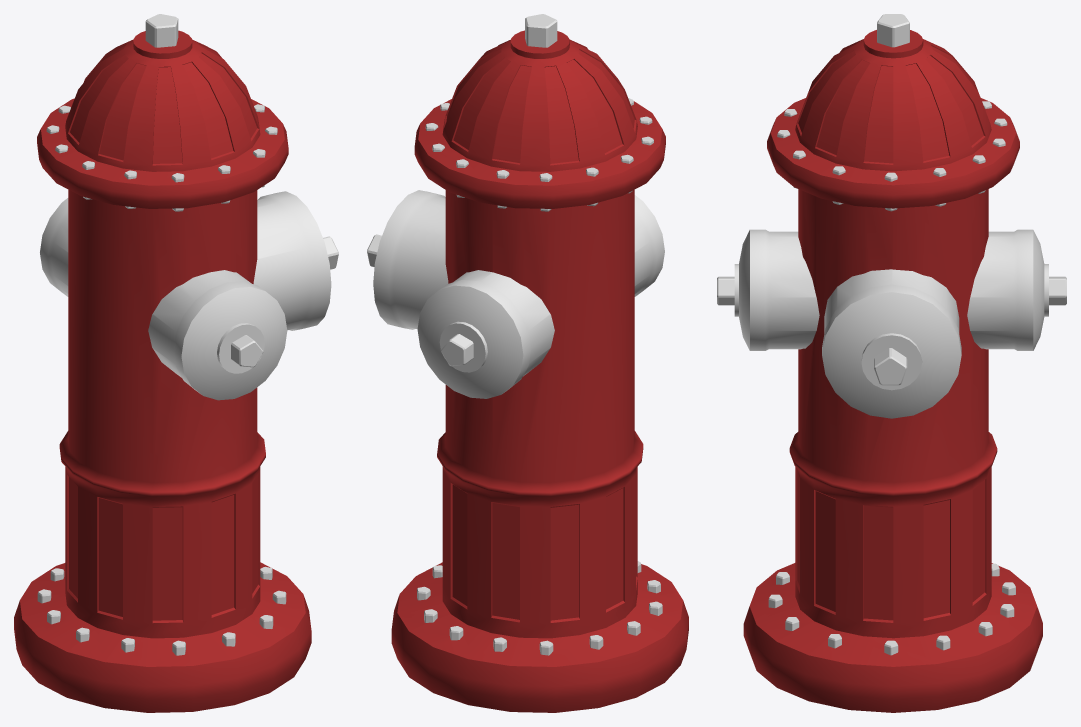
File: Hydrant.fbx
3 renders of one model, left to right at view 1: azimuth 30°, elevation 25°; view 2: azimuth 150°, elevation 25°; view 3: azimuth 270°, elevation 25°, orthographic.
Visible parts, largest first — view 1: hydrantUnionized_pCylinder25; view 2: hydrantUnionized_pCylinder25; view 3: hydrantUnionized_pCylinder25.
Boxes of the visible parts, x1,y1,x2,y2 form: hydrantUnionized_pCylinder25: (14, 14, 338, 712); hydrantUnionized_pCylinder25: (367, 14, 688, 712); hydrantUnionized_pCylinder25: (717, 14, 1066, 712).
Bounding box in the file's own units: 3.23 × 6.57 × 3.29.
